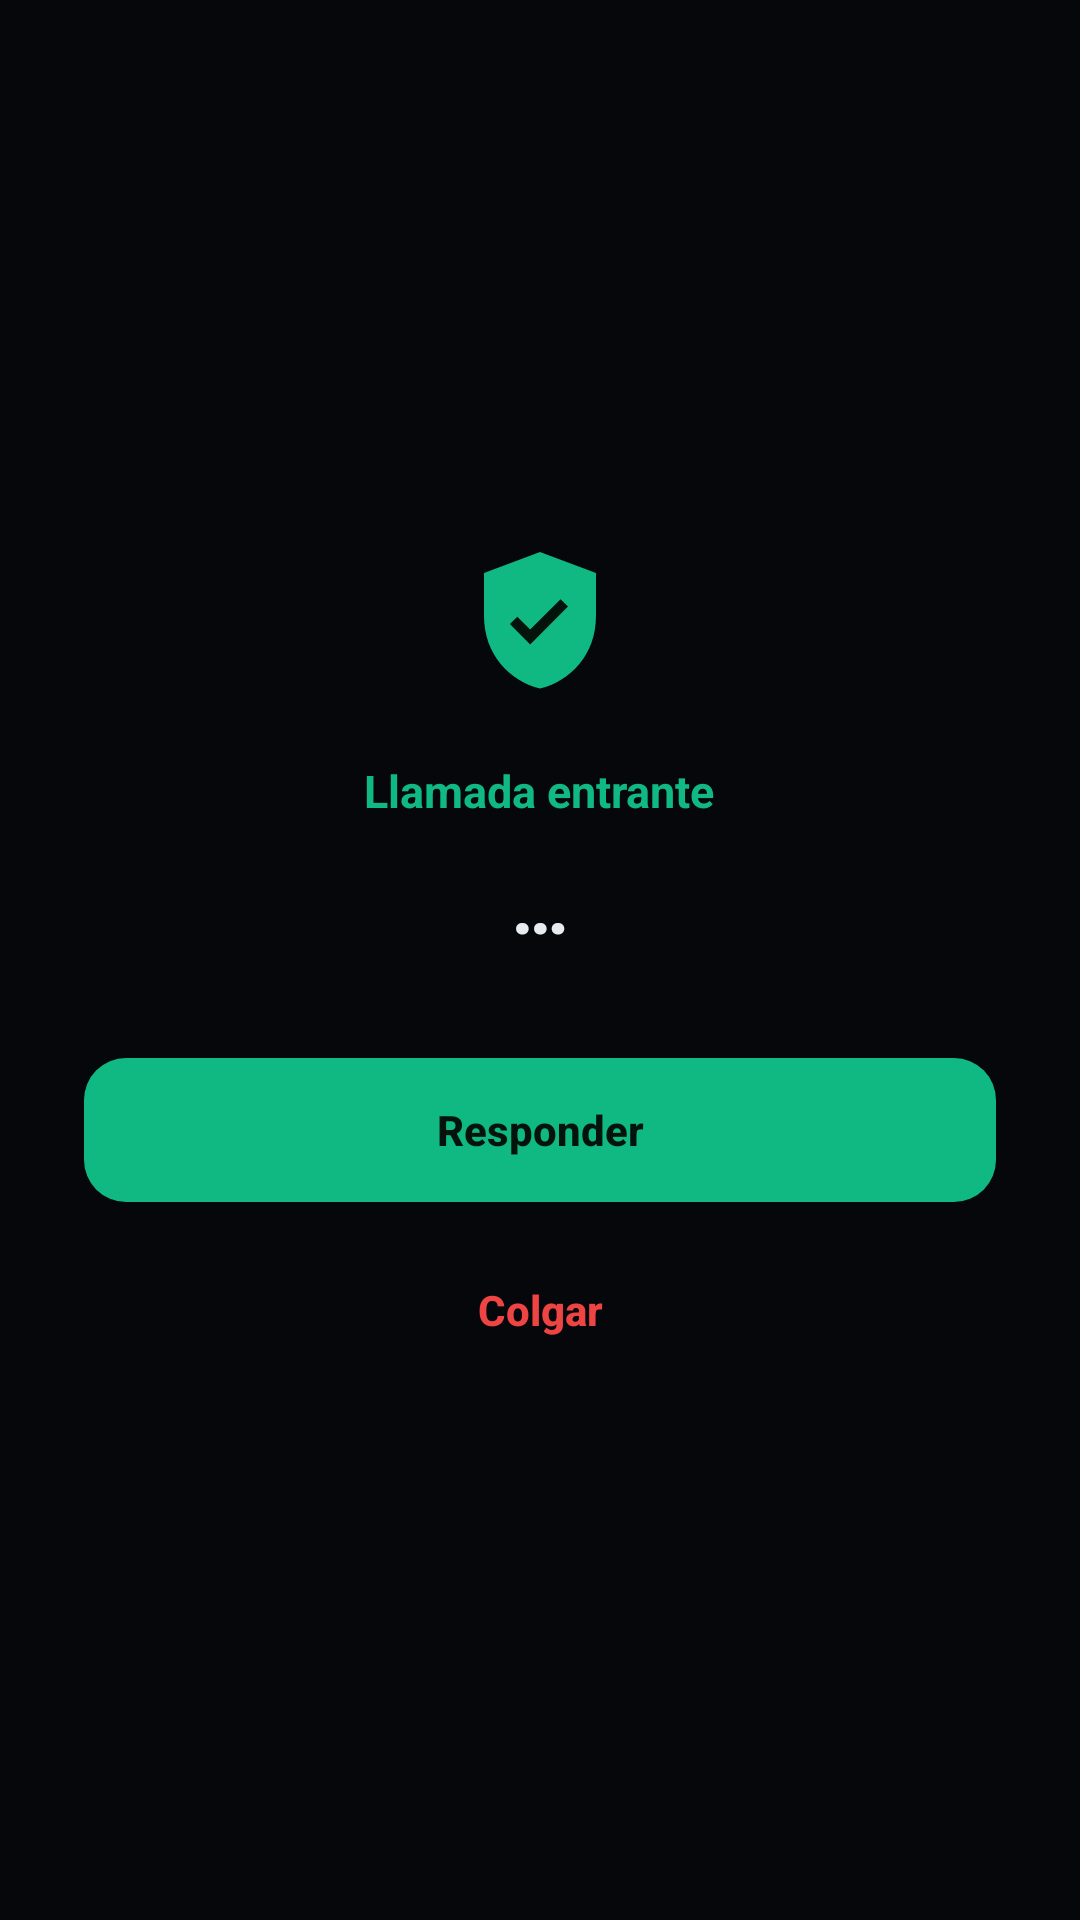

Named icons in this screenshot (1080px×1920px) and their centers, (x,y):
shield: (540,620)
